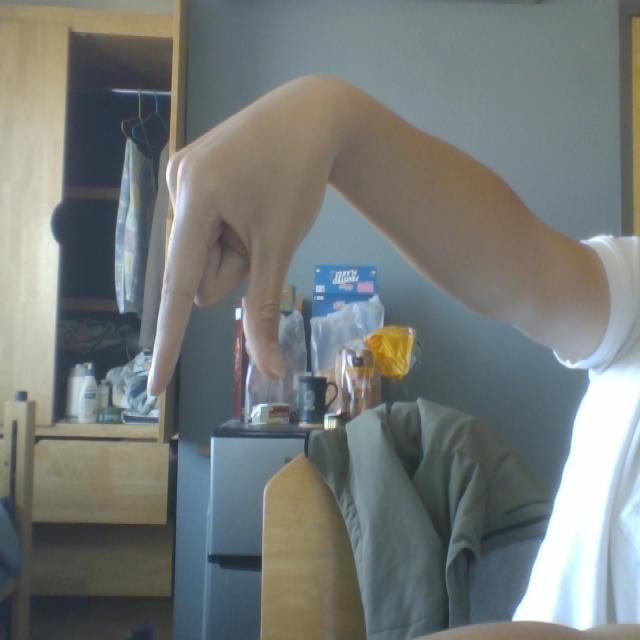Q: (130, 30, 425, 429)
